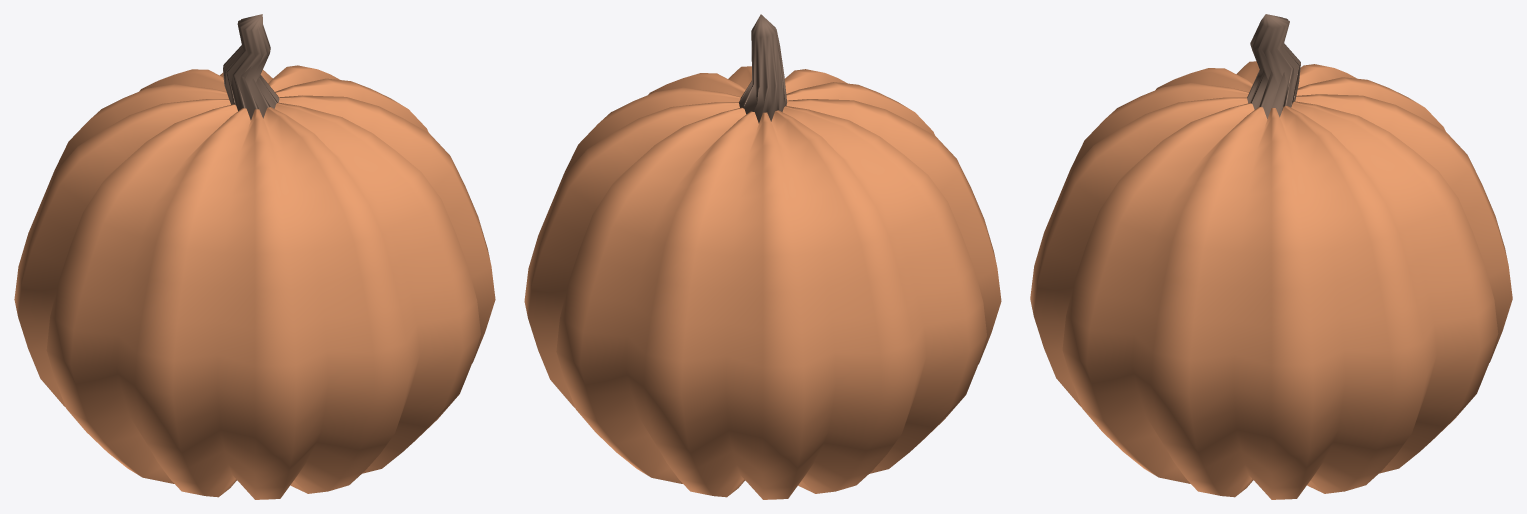
Rendered from SM_Pumpkin.fbx.
3 views of the same model, side by side, from view 1: azimuth 30°, elevation 25°; view 2: azimuth 150°, elevation 25°; view 3: azimuth 270°, elevation 25° (orthographic).
Parts seen in each view (by area): view 1: SM_Pumpkin; view 2: SM_Pumpkin; view 3: SM_Pumpkin.
Boxes of the visible parts, <box> form: SM_Pumpkin: <box>14,14,495,499</box>; SM_Pumpkin: <box>524,14,1001,499</box>; SM_Pumpkin: <box>1030,14,1512,499</box>.
Size of the model in its own units: 2.3 by 2.35 by 2.3.
